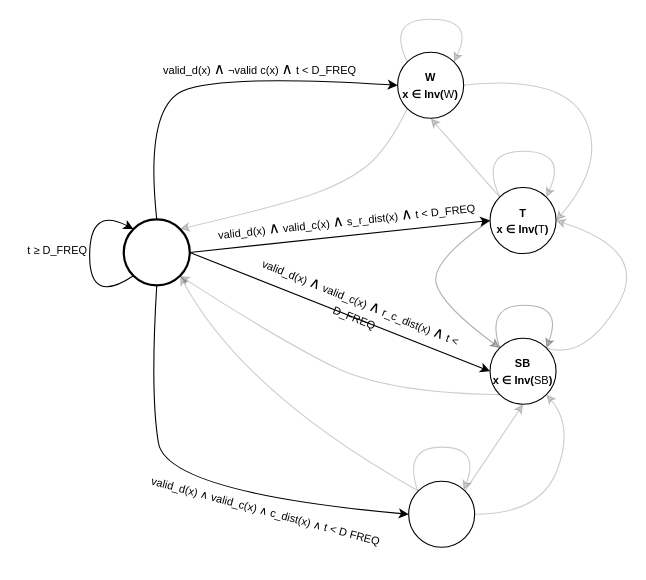
Image size: 646x580. Some labels were removed from this diagram. The shapes that lost their labels are listed below. From the top down, each one's centre as x and y in pixels, then its label:
At point 156,252: "N x ∈ Inv( N )".
At point 441,513: "EB x ∈ Inv( EB )".
